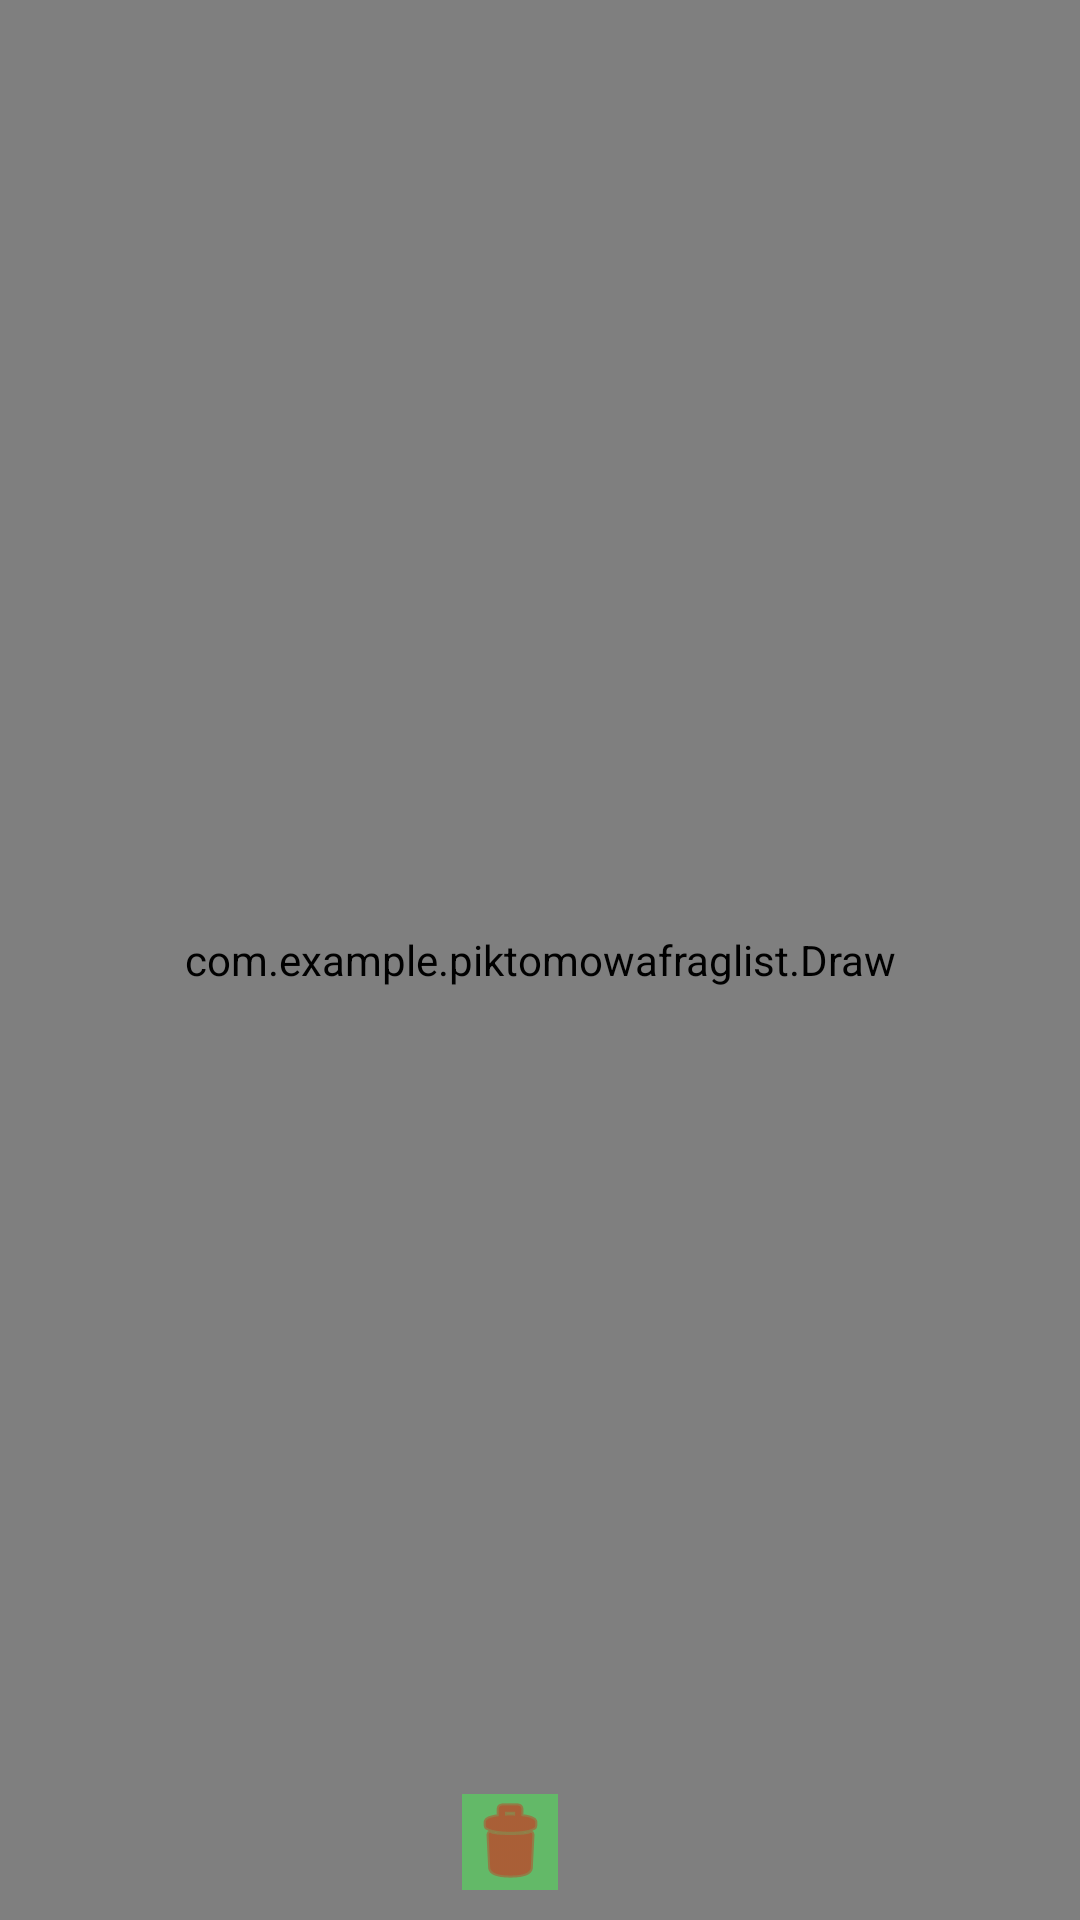

Icons on this 1080px×1920px Android screen, each with the point to tap as [x,y]:
delete: [510,1842]
